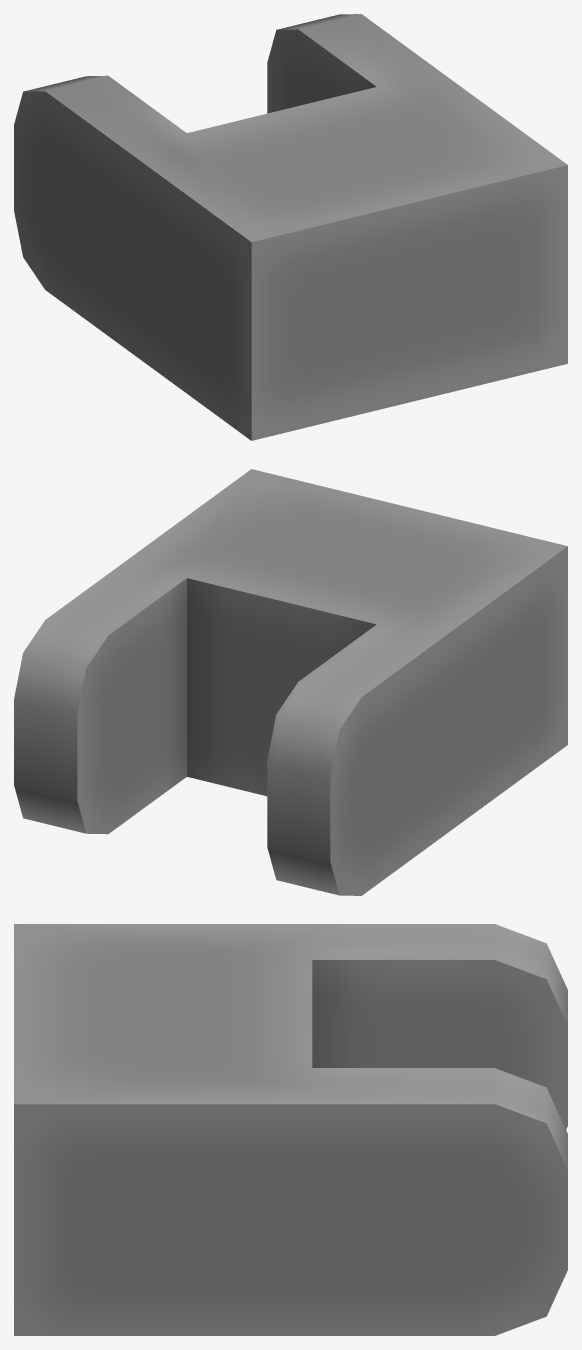
File: Libra_Antenna_2_Base.obj
3 views of the same model, one above another, from view 1: azimuth 30°, elevation 25°; view 2: azimuth 150°, elevation 25°; view 3: azimuth 270°, elevation 25° (orthographic). The views are drawn at different scales.
Visible parts, largest first — view 1: Libra_Antenna_2_Base; view 2: Libra_Antenna_2_Base; view 3: Libra_Antenna_2_Base.
Boxes of the visible parts, x1,y1,x2,y2 form: Libra_Antenna_2_Base: (14, 14, 567, 440); Libra_Antenna_2_Base: (14, 469, 567, 895); Libra_Antenna_2_Base: (14, 924, 567, 1335).
Bounding box in the file's own units: 0.05 × 0.03 × 0.065.
